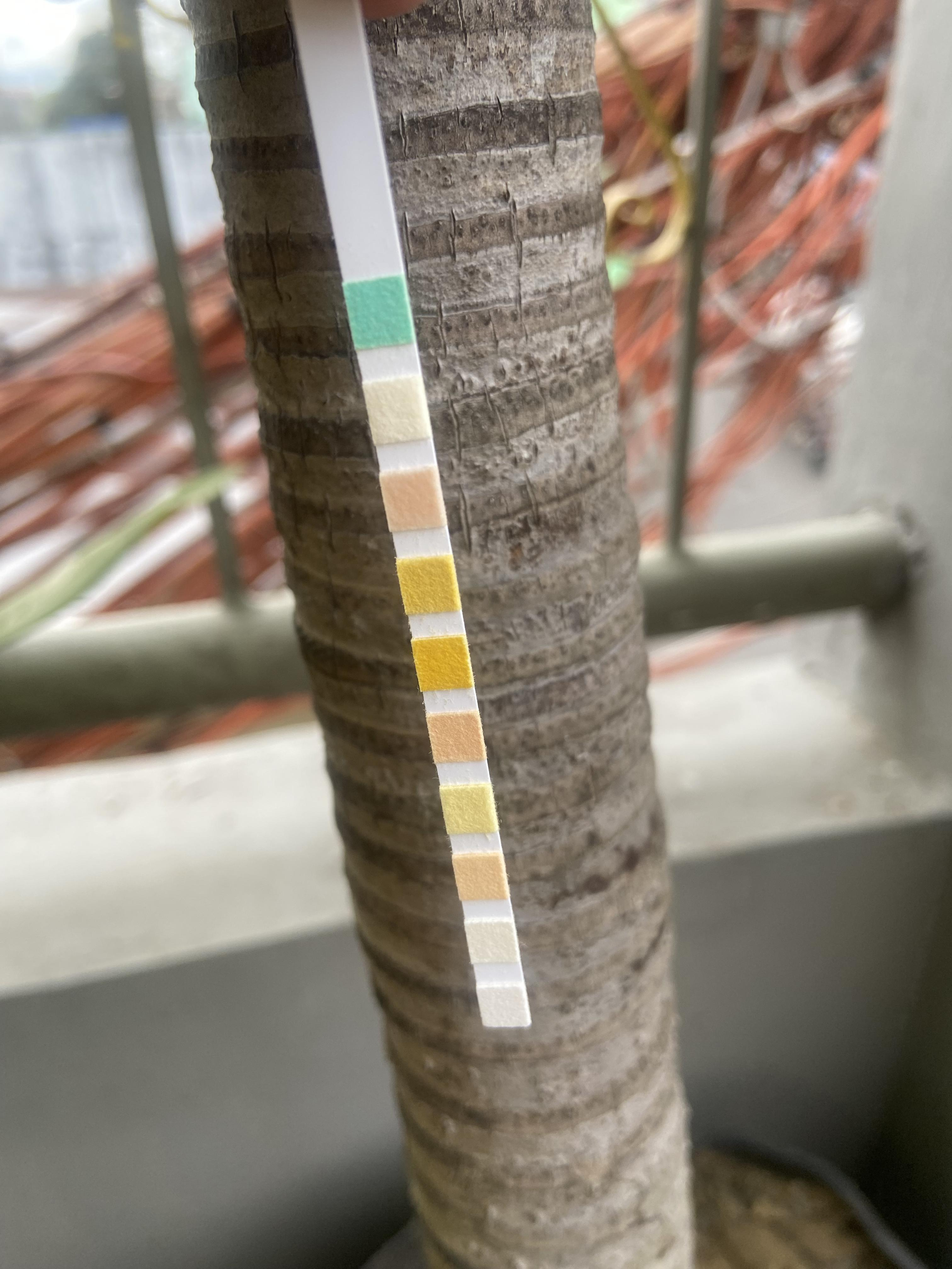Bilirubin: (371, 381, 422, 440)
Blood: (420, 639, 468, 686)
Glucose: (354, 285, 408, 345)
Ketone: (389, 472, 437, 530)
Leukocytes: (483, 989, 522, 1028)
Nitrite: (472, 922, 511, 961)
Protein: (448, 789, 488, 834)
SpGravity: (404, 561, 455, 614)
Urobilinogen: (461, 854, 500, 900)
pH: (433, 715, 476, 760)
strip: (292, 4, 532, 1027)
